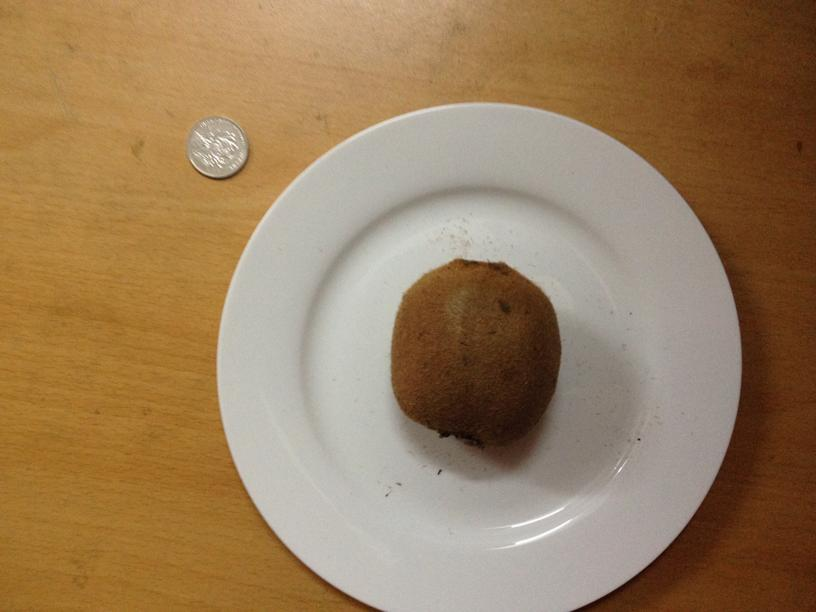coin: (180, 115, 250, 180)
qiwi: (393, 260, 562, 444)
